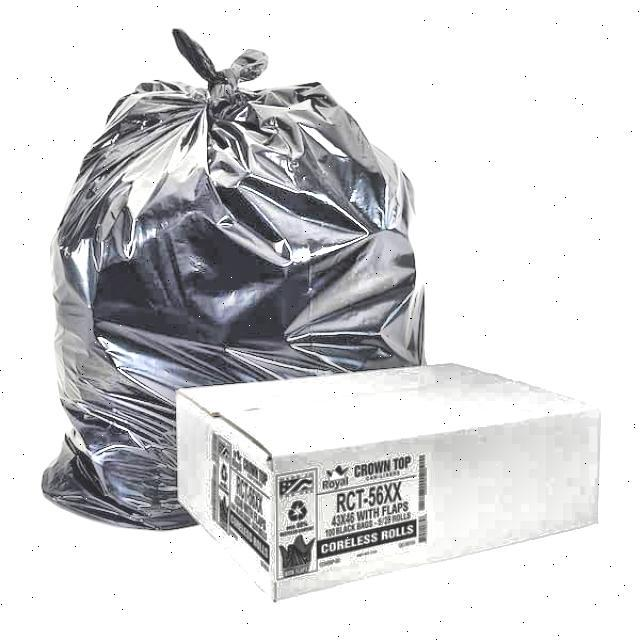Trashbag: (45, 19, 435, 524)
